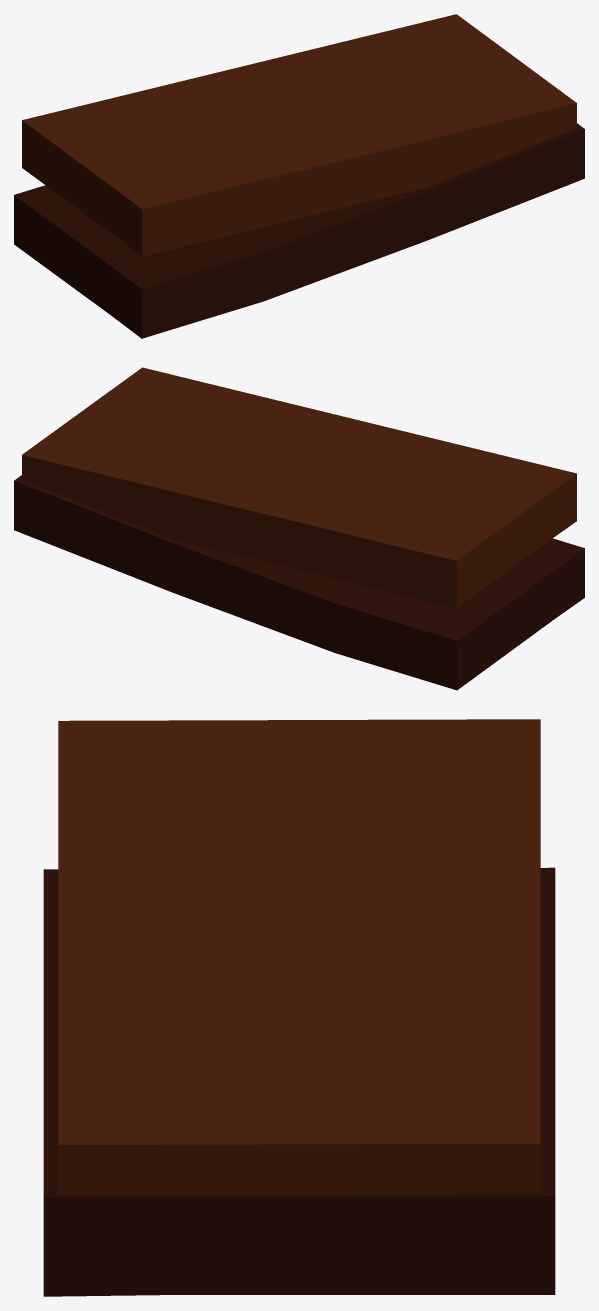
The model's file is Belt 03.FBX.
The picture shows the model from 3 angles, top to bottom: view 1: azimuth 30°, elevation 25°; view 2: azimuth 150°, elevation 25°; view 3: azimuth 270°, elevation 25°; orthographic projection. The views are drawn at different scales.
Visible parts, largest first — view 1: Belt 03; view 2: Belt 03; view 3: Belt 03.
Part boxes in pixels (x1,y1,x2,y2): Belt 03: [14, 14, 584, 338]; Belt 03: [14, 367, 584, 690]; Belt 03: [43, 719, 555, 1296].
Size of the model in its own units: 51.16 by 13.98 by 25.57.
1 material, 1 textured.
